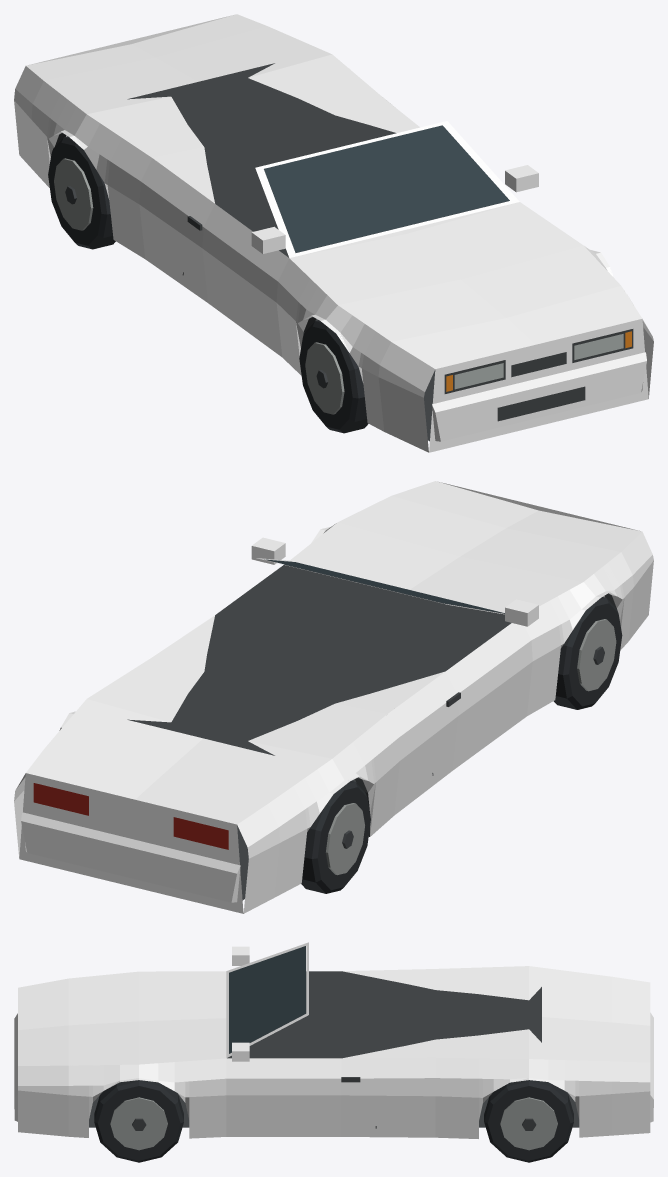
The model's file is ashcombe_saltire.glb.
3 renders of one model, top to bottom at view 1: azimuth 30°, elevation 25°; view 2: azimuth 150°, elevation 25°; view 3: azimuth 270°, elevation 25°, orthographic. The views are drawn at different scales.
Parts seen in each view (by area): view 1: ashcombe_saltire; view 2: ashcombe_saltire; view 3: ashcombe_saltire.
Boxes of the visible parts, x1=… form: ashcombe_saltire: x1=14, y1=14, x2=653, y2=452; ashcombe_saltire: x1=14, y1=481, x2=653, y2=913; ashcombe_saltire: x1=14, y1=942, x2=653, y2=1162.
Size of the model in its own units: 1.72 by 1.02 by 4.38.
Materials: 8 (1 with a texture image).
